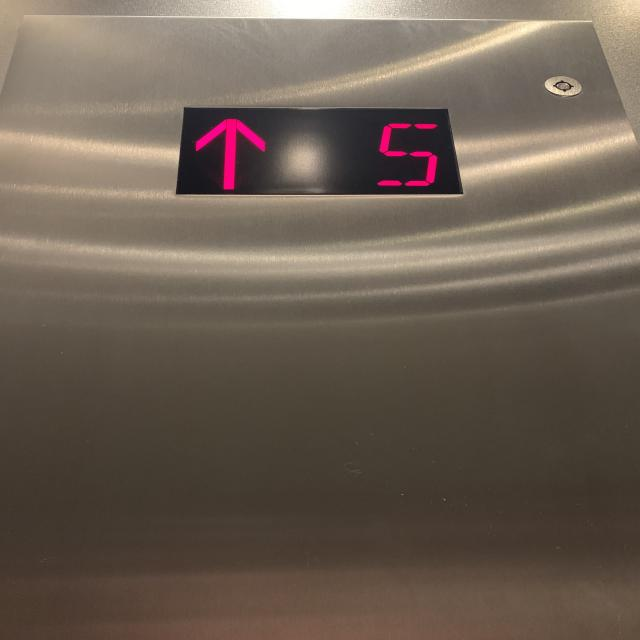box: (177, 103, 475, 204)
